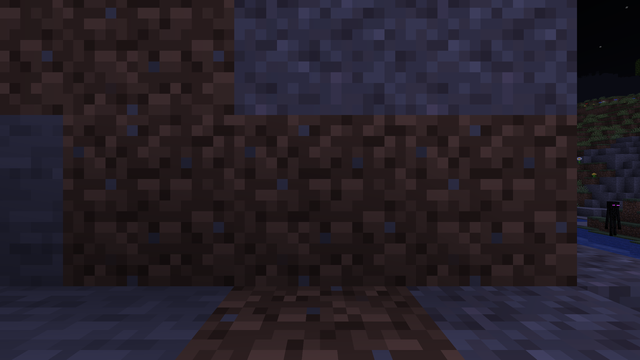endermens: (605, 200, 620, 235)
